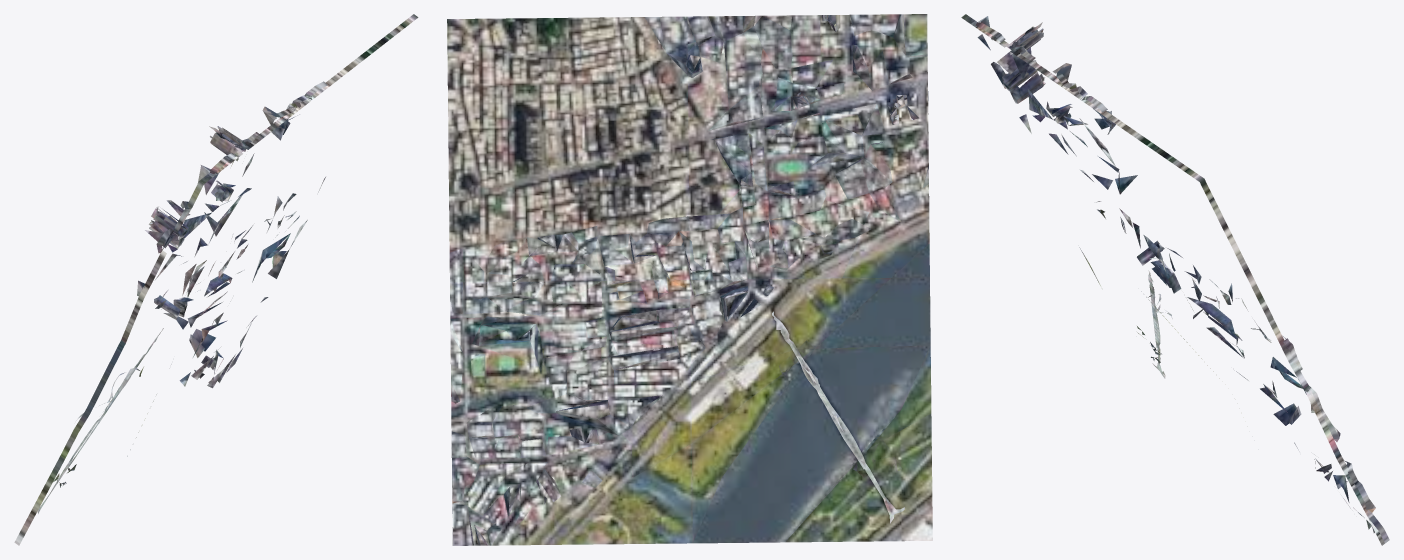
3 renders of one model, left to right at view 1: azimuth 30°, elevation 25°; view 2: azimuth 150°, elevation 25°; view 3: azimuth 270°, elevation 25°, orthographic. The views are drawn at different scales.
Size of the model in its own units: 1224 by 1153 by 1041.
1 material, 1 textured.
